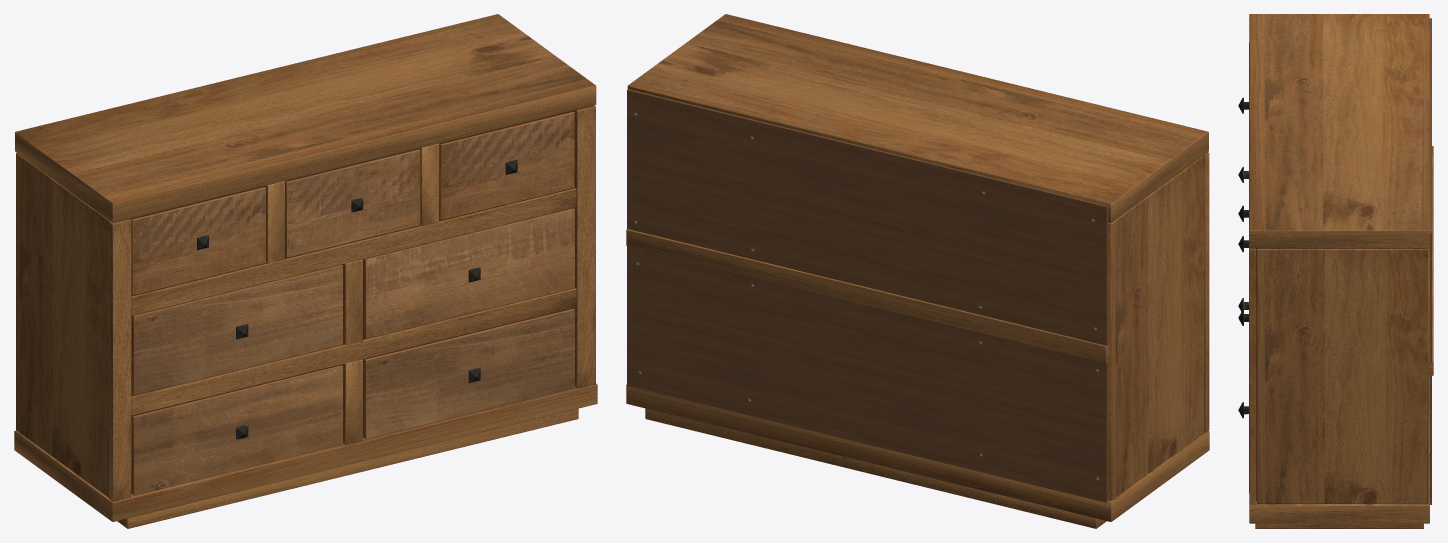
The model's file is B075YZPG5Y.glb.
3 views of the same model, side by side, from view 1: azimuth 30°, elevation 25°; view 2: azimuth 150°, elevation 25°; view 3: azimuth 270°, elevation 25° (orthographic). The views are drawn at different scales.
Parts seen in each view (by area): view 1: RootNode; view 2: RootNode; view 3: RootNode.
Part boxes in pixels (x1,y1,x2,y2): RootNode: (14, 14, 597, 528); RootNode: (626, 14, 1209, 528); RootNode: (1238, 14, 1433, 528).
Bounding box in the file's own units: 1.26 × 0.8253 × 0.4789.
Materials: 1 (1 with a texture image).
